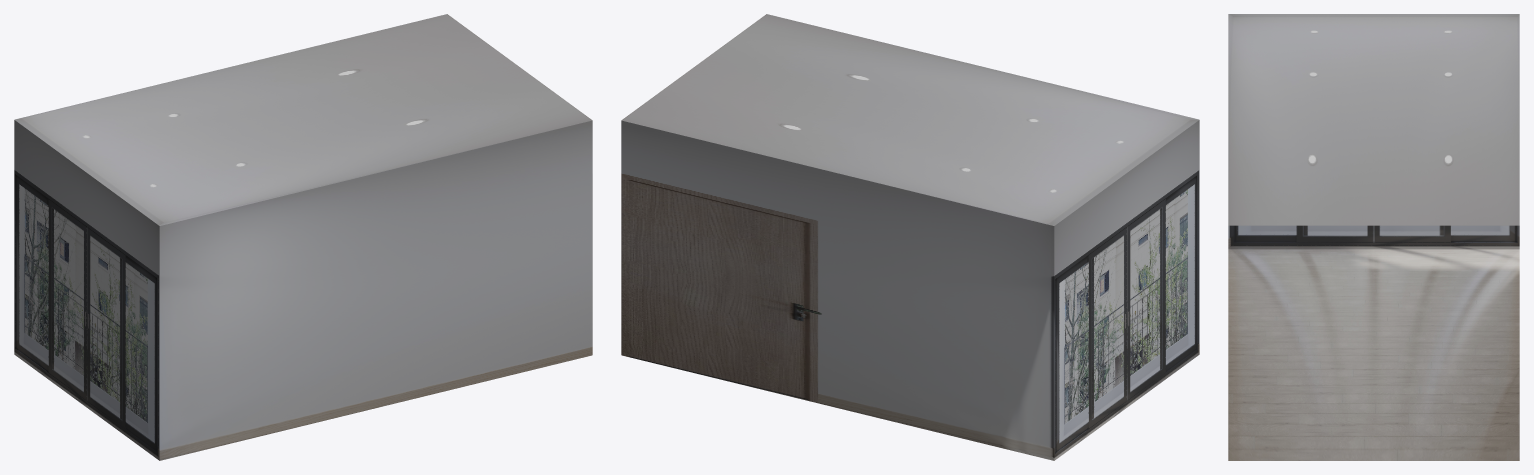
Rendered from ROOM_007.glb.
3 renders of one model, left to right at view 1: azimuth 30°, elevation 25°; view 2: azimuth 150°, elevation 25°; view 3: azimuth 270°, elevation 25°, orthographic.
Visible parts, largest first — view 1: wall_left, roof, wall_bottom; view 2: wall_right, roof, wall_bottom; view 3: roof, floor, wall_bottom.
Boxes of the visible parts, bbox=[...] form: wall_left: bbox=[159, 120, 592, 460]; roof: bbox=[14, 14, 592, 225]; wall_bottom: bbox=[14, 120, 159, 460]; wall_right: bbox=[621, 120, 1054, 460]; roof: bbox=[621, 14, 1199, 225]; wall_bottom: bbox=[1054, 120, 1199, 460]; roof: bbox=[1228, 14, 1519, 225]; floor: bbox=[1228, 249, 1519, 460]; wall_bottom: bbox=[1228, 225, 1519, 249].
Size of the model in its own units: 5.5 by 2.85 by 3.2.
Materials: 1 (1 with a texture image).
